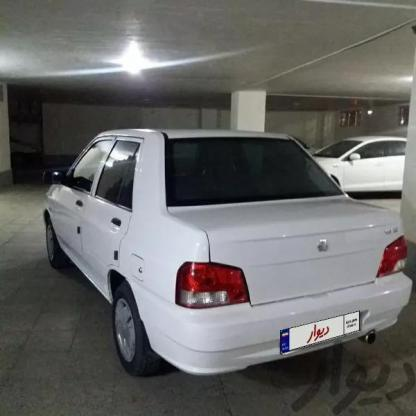Car: (37, 128, 416, 384), (308, 133, 416, 201)
